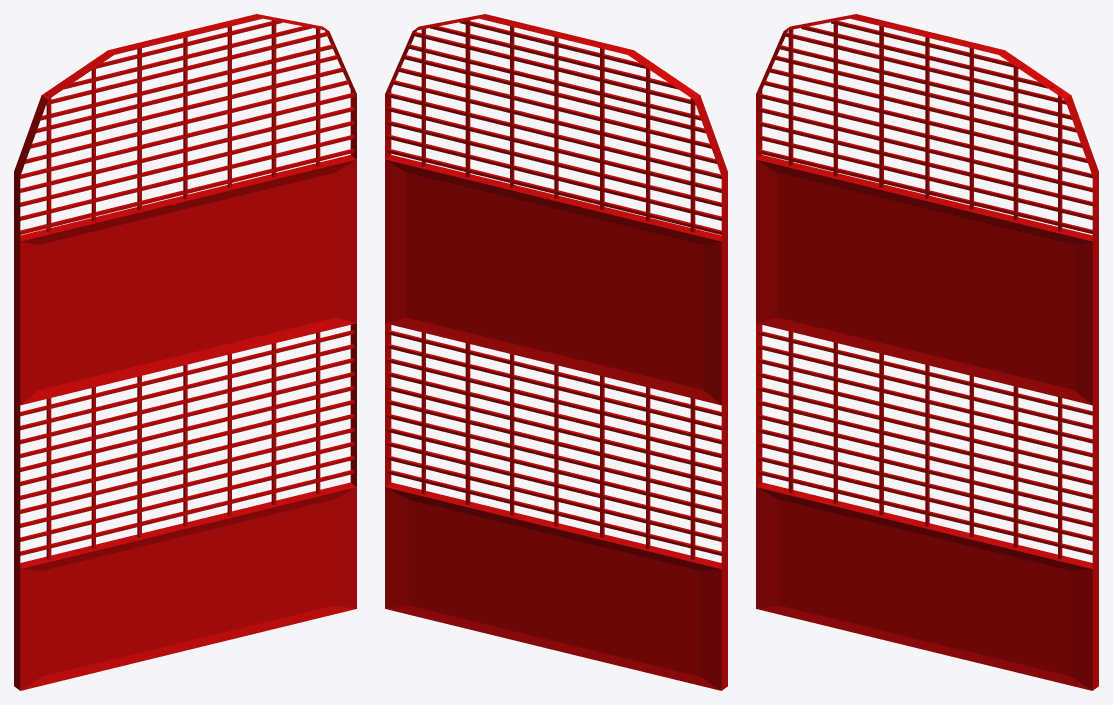
The model's file is Scaffold_Door.fbx.
The picture shows the model from 3 angles, left to right: view 1: azimuth 30°, elevation 25°; view 2: azimuth 150°, elevation 25°; view 3: azimuth 330°, elevation 25°; orthographic projection.
Parts seen in each view (by area): view 1: Scaffold_Door; view 2: Scaffold_Door; view 3: Scaffold_Door.
Part boxes in pixels (left/top/right/bottom): Scaffold_Door: left=14, top=14, right=356, bottom=690; Scaffold_Door: left=385, top=14, right=727, bottom=690; Scaffold_Door: left=756, top=14, right=1098, bottom=690.
Size of the model in its own units: 9.17 by 15.94 by 0.3006.
